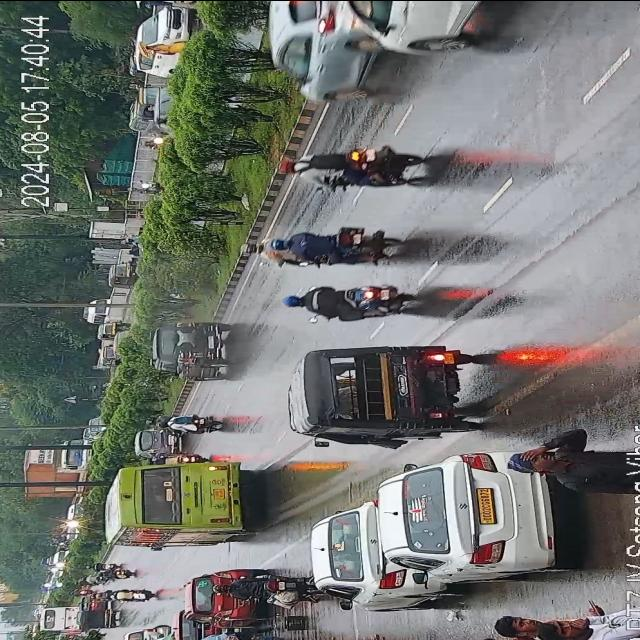2-wheelers: (500, 436, 629, 491), (281, 142, 423, 188), (241, 230, 394, 269), (212, 572, 314, 602), (156, 416, 217, 434), (152, 452, 210, 463), (107, 588, 149, 601), (121, 182, 158, 194), (100, 569, 136, 577), (80, 574, 112, 582), (84, 562, 120, 569), (67, 588, 93, 596), (144, 140, 162, 148)
auto: (288, 340, 468, 444), (131, 84, 163, 122), (100, 324, 126, 364), (110, 258, 142, 288), (78, 608, 124, 628), (143, 40, 185, 52)
bus: (100, 453, 256, 549), (38, 606, 80, 630)
car: (378, 446, 564, 605), (312, 504, 418, 606), (266, 0, 363, 100), (338, 0, 527, 51), (154, 317, 236, 381), (134, 5, 192, 72), (190, 564, 258, 620), (166, 610, 207, 638), (134, 431, 178, 453), (125, 627, 169, 640), (95, 629, 136, 640), (80, 599, 110, 609)
pedestrian: (537, 602, 640, 640), (481, 613, 590, 640), (462, 624, 588, 640), (222, 633, 314, 640), (186, 630, 224, 640)
truck: (18, 438, 88, 494)
